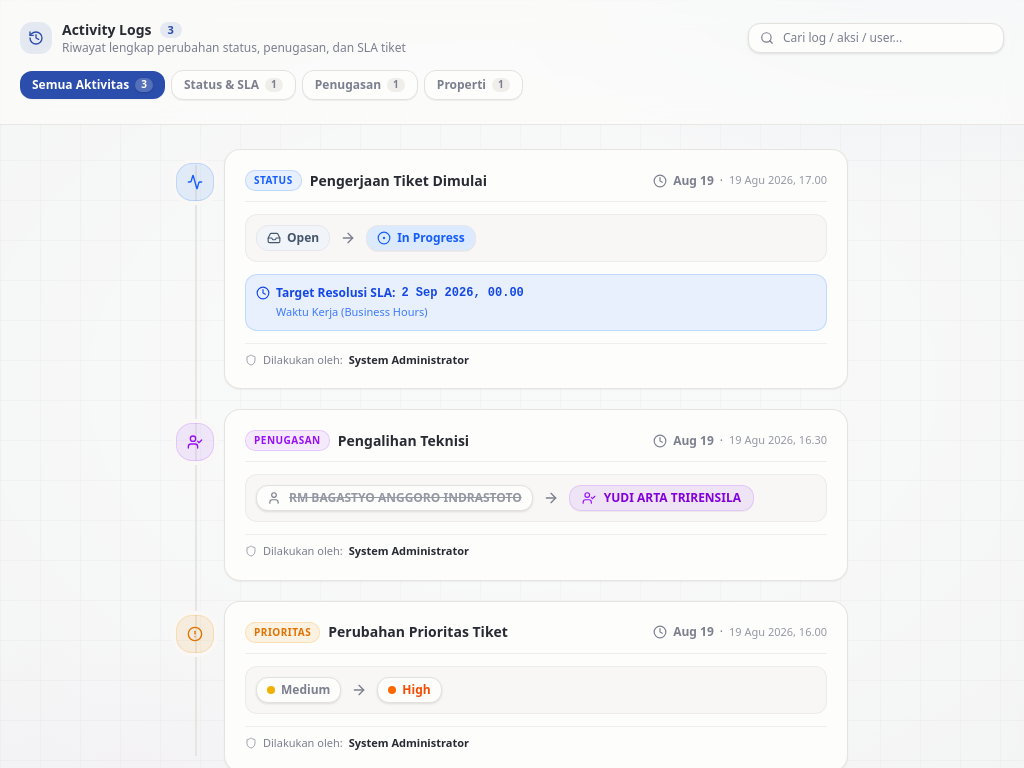
Scenario: TicketHistory › filters activities by category pills
Note: Click Penugasan tab
Click the button "Penugasan 1".
click(360, 85)  # box x1=302 y1=70 x2=418 y2=100
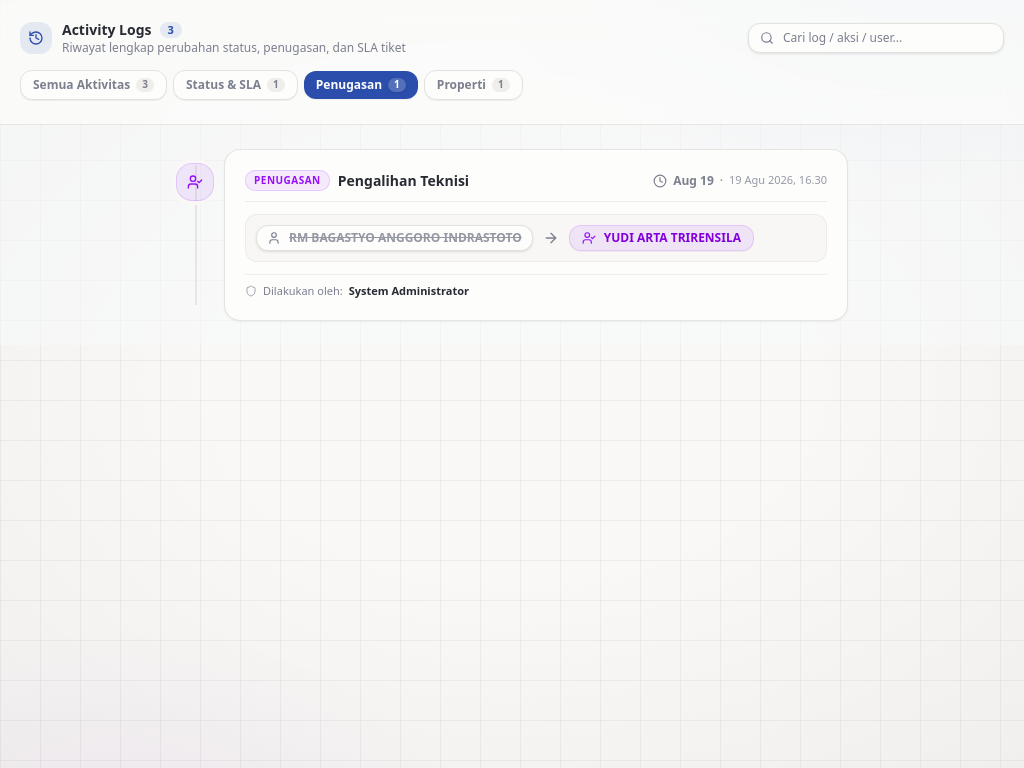
Expected: the heading "Pengalihan Teknisi" is shown, x1=338 y1=170 x2=469 y2=190
Expected: the heading "Pengerjaan Tiket Dimulai" is gone
Expected: the heading "Perubahan Prioritas Tiket" is gone
